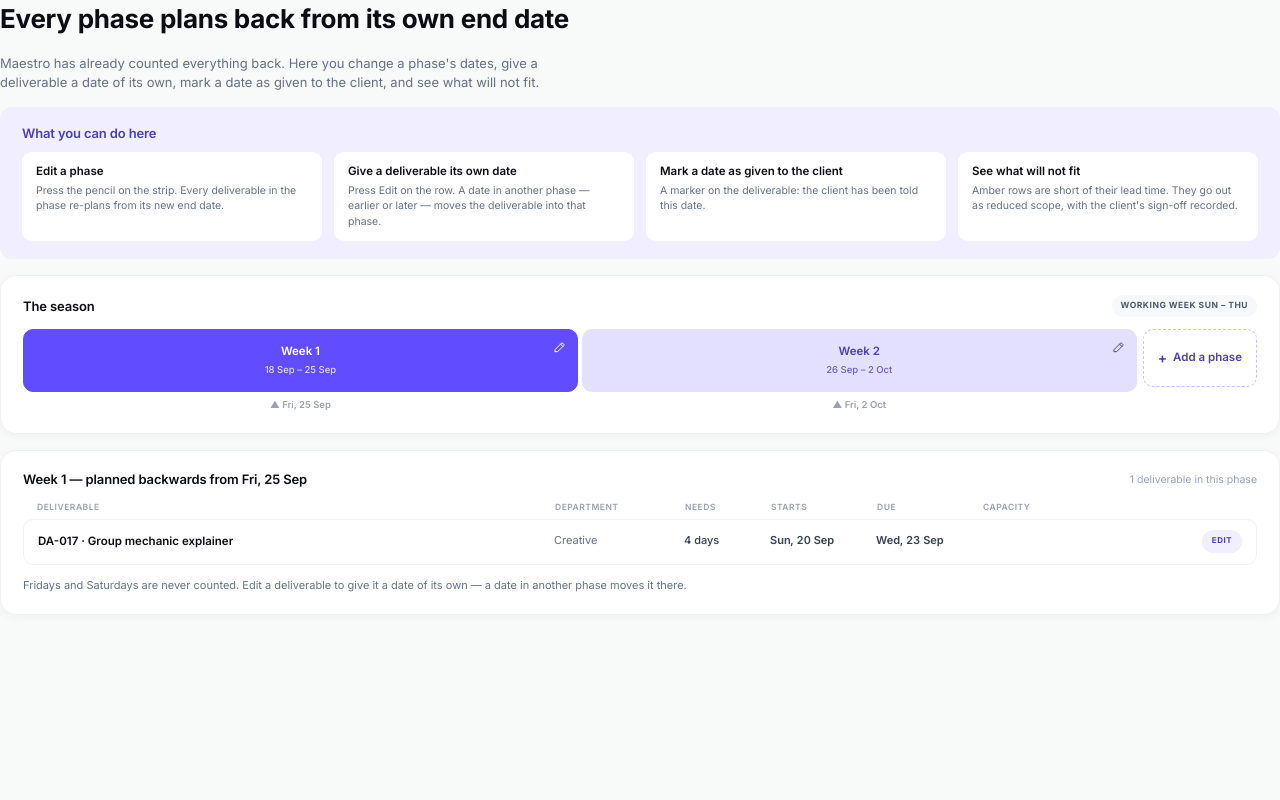
Test case: TimingStepContainer (CB-v3-04, wired up) › judges the phase by the day it will ACTUALLY be due — a Saturday is the Thursday before
Click the button with test id "timing-edit-da" at (1222, 542), box [1202,530,1242,553]
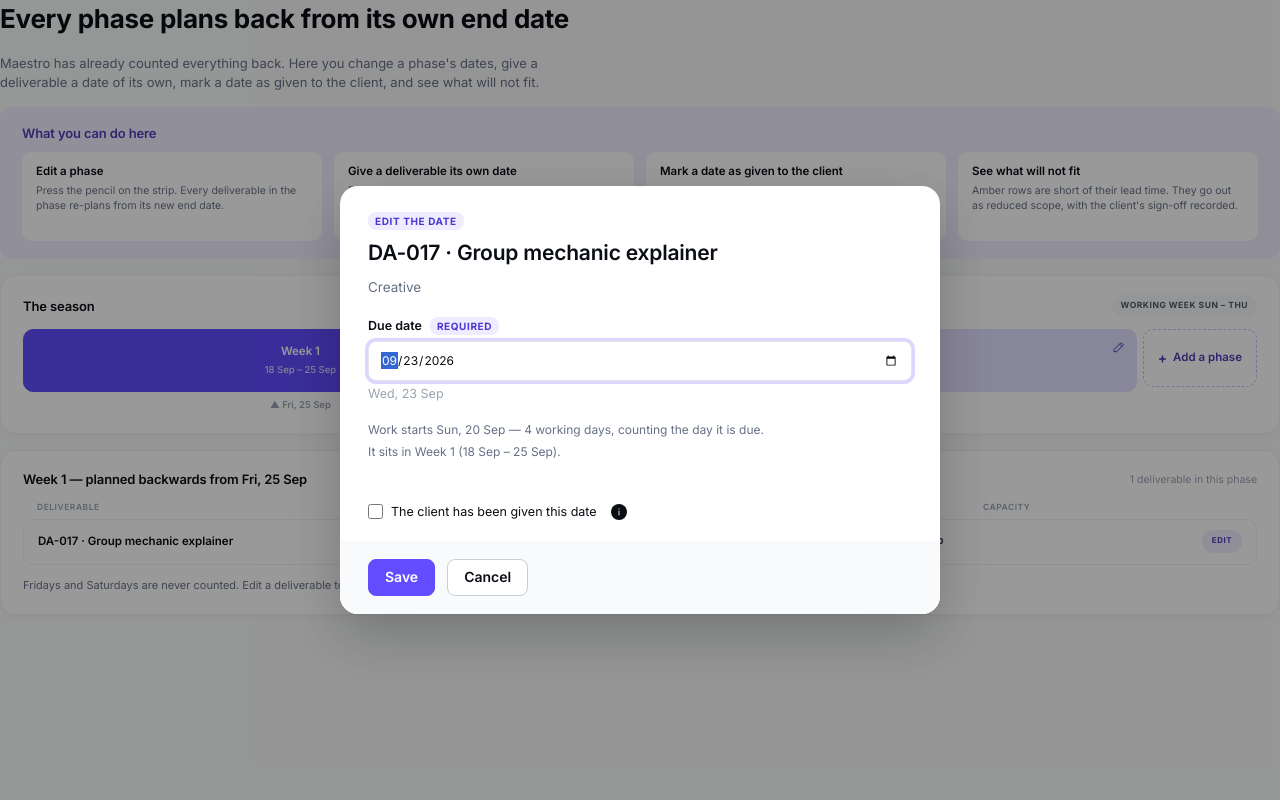
Type "2026-09-26" into the date field with test id "timing-piece-due" at (640, 361), box [368,341,912,381]
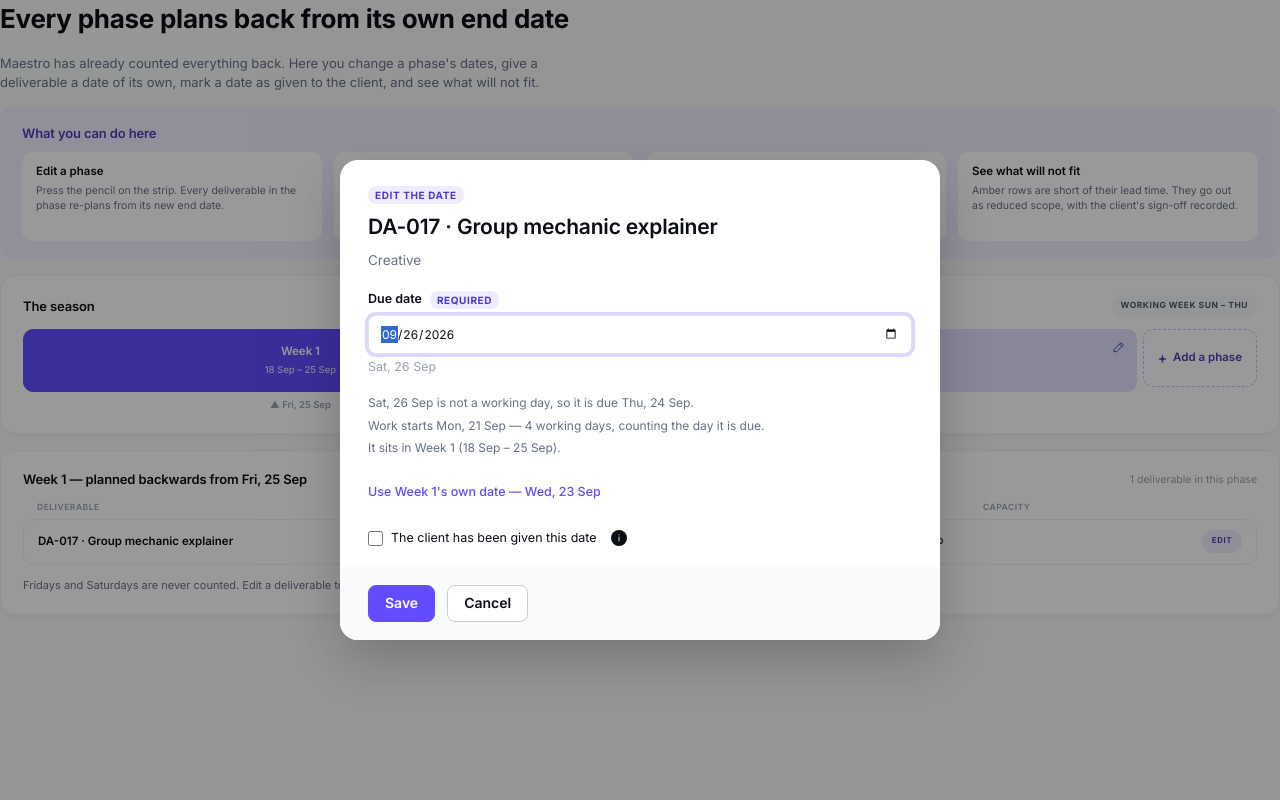
Result: the text with test id "timing-piece-in-phase" shows "Week 1" at [368,440,561,455]
Result: the text with test id "timing-piece-not-working" reads "Sat, 26 Sep is not a working day, so it is due Thu, 24 Sep." at [368,395,694,410]
